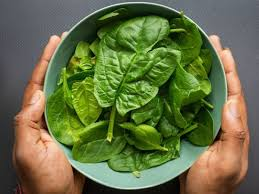spinach: (88, 47, 185, 153)
